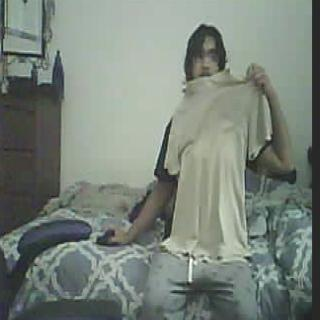Yellow T-Shirt: (172, 78, 260, 262)
